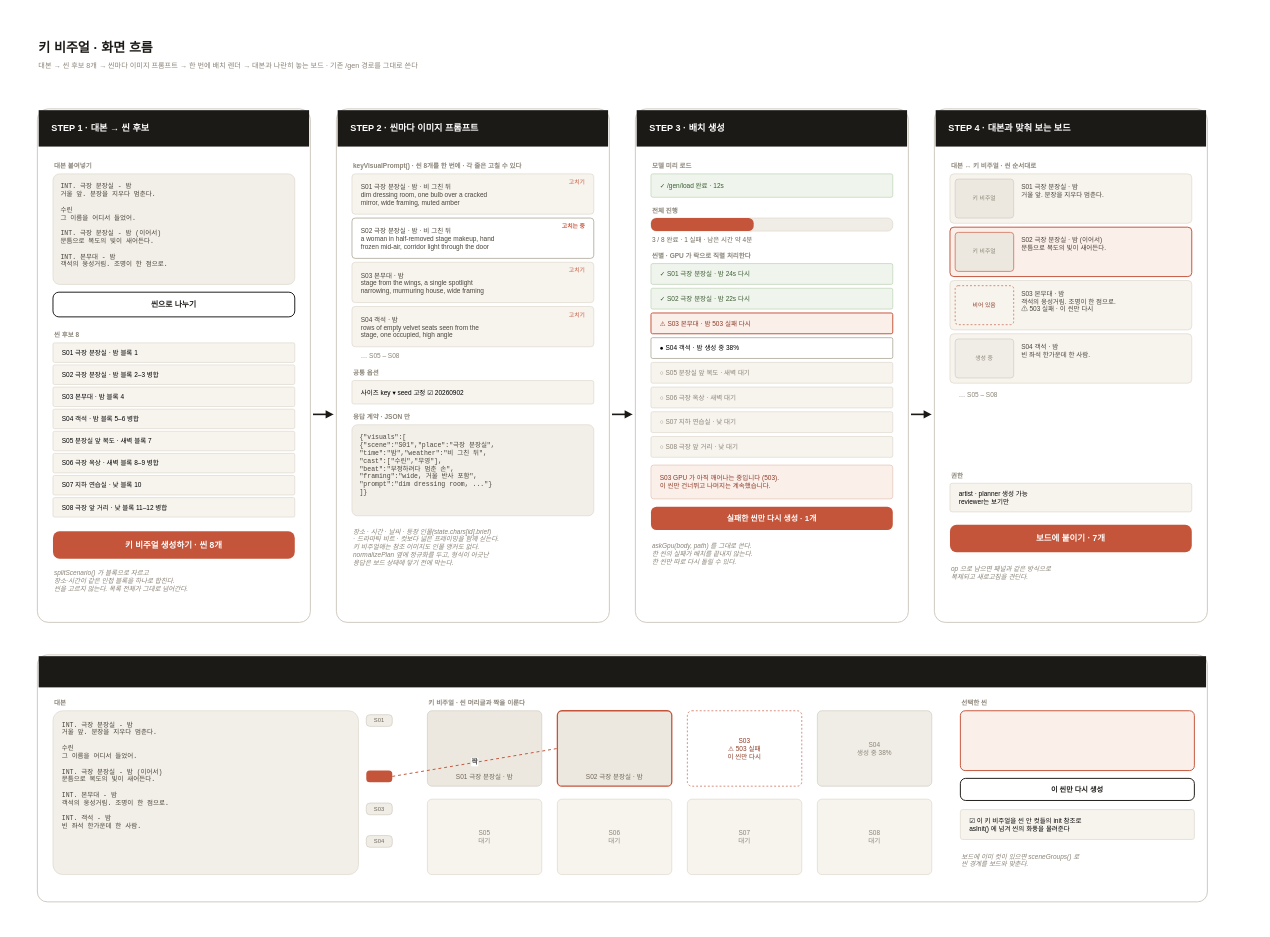
Image size: 1270x937. Some labels were removed from this diagram. Here are the shapes that lost their labels. From the top down, the centre of each, then its label:
At point 622,671: "STEP 4 확대 · 매칭 보드 · 왼쪽 대본을 스크롤하면 오른쪽 키 비주얼이 따라온다".
At point 1077,740: "S02 극장 분장실 · 밤 · 비 그친 뒤 수린 · 무영 비트 불린 이름을 부정하려다 손이 멈춘다 seed 20260902 · key (2:3)".
At point 379,776: "S02".
